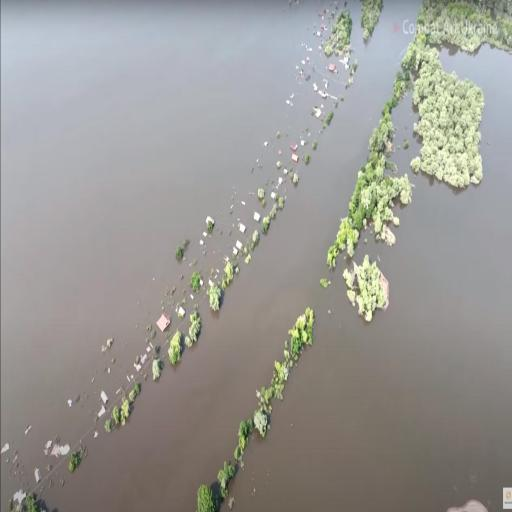flood: (40, 0, 512, 511), (222, 45, 512, 511), (75, 329, 166, 426), (284, 58, 346, 159), (163, 227, 232, 311), (244, 131, 289, 216), (309, 47, 350, 84), (322, 8, 335, 37), (337, 0, 344, 14)
house: (156, 310, 172, 335), (99, 389, 111, 407), (95, 406, 108, 420), (238, 219, 248, 236), (33, 468, 43, 484), (205, 214, 215, 230), (178, 304, 188, 320), (328, 60, 338, 76), (320, 86, 329, 102), (289, 139, 298, 153), (254, 210, 262, 225), (270, 188, 278, 201), (282, 167, 290, 177), (232, 246, 238, 256)
